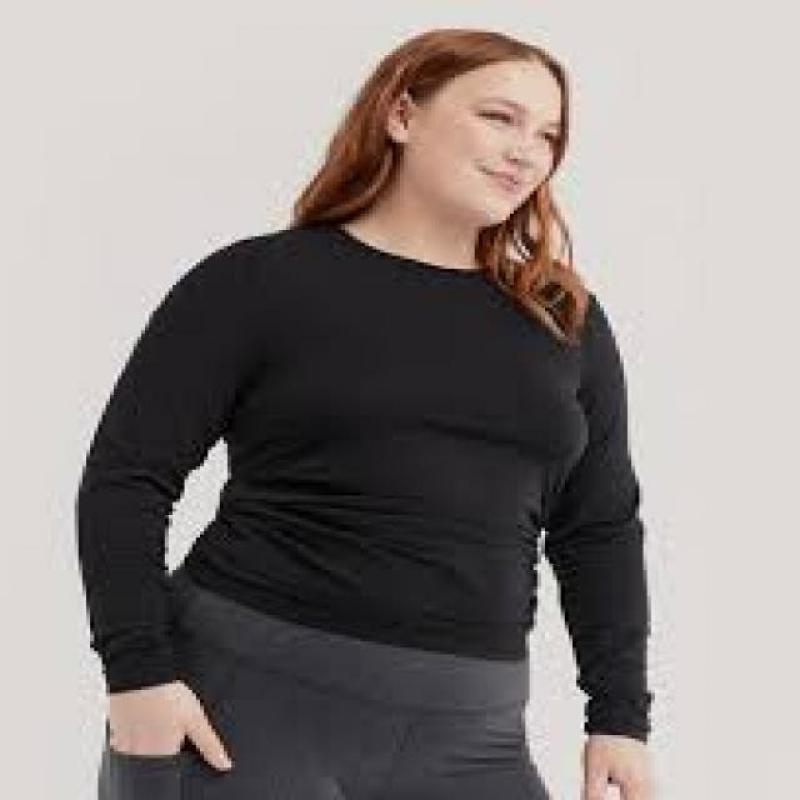long sleeve shirt: (73, 223, 656, 745)
trousers: (97, 578, 551, 800)
